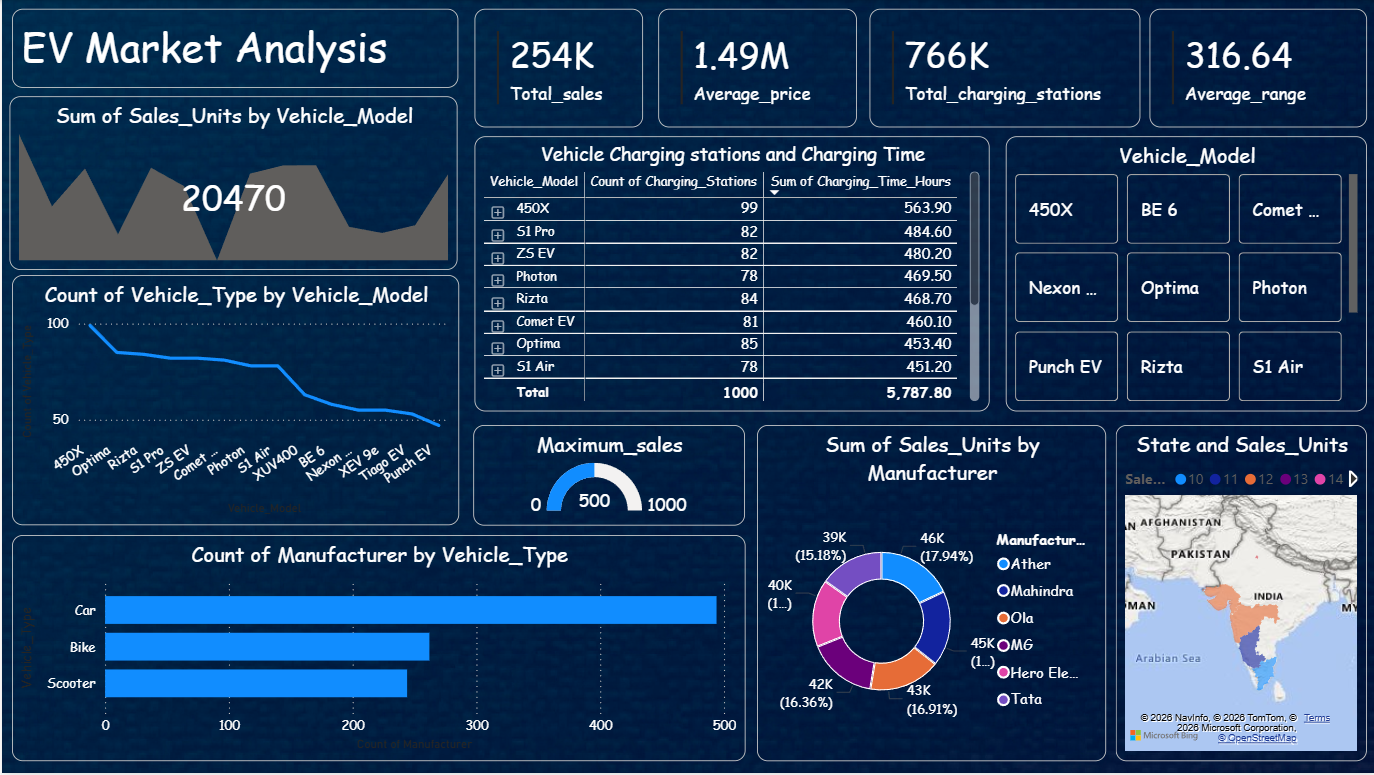

The page's visual inventory and layout, read from the dashboard file:
{"tool":"powerbi","page":{"name":"Page 1","canvas":[1280,720],"ordinal":0},"visuals":[{"type":"textbox","box":[9.3,8.1,415.1,73.3],"z":0},{"type":"kpi","fields":{"Indicator":["Sum(EV_Market_Data.Sales_Units)"],"TrendLine":["EV_Market_Data.Vehicle_Model"]},"box":[7.4,89.6,417.2,162],"z":1000},{"type":"lineChart","fields":{"Category":["EV_Market_Data.Vehicle_Model"],"Y":["CountNonNull(EV_Market_Data.Vehicle_Type)"]},"box":[8.8,256.2,416.2,232.5],"z":2000},{"type":"donutChart","fields":{"Y":["Sum(EV_Market_Data.Sales_Units)"],"Category":["EV_Market_Data.Manufacturer"]},"box":[702.5,395,325,312.5],"z":3000},{"type":"barChart","fields":{"Y":["CountNonNull(EV_Market_Data.Manufacturer)"],"Category":["EV_Market_Data.Vehicle_Type"]},"box":[8.8,497.5,682.5,210],"z":4000},{"type":"filledMap","fields":{"Category":["EV_Market_Data.State"],"Series":["EV_Market_Data.Sales_Units"]},"box":[1036.2,395,233.8,312.5],"z":5000},{"type":"advancedSlicerVisual","fields":{"Values":["EV_Market_Data.Vehicle_Model"]},"box":[933.7,126.7,336,255.8],"z":6000},{"type":"cardVisual","fields":{"Data":["Charging_stations.Total_sales"]},"box":[439.5,8.1,157,110.5],"z":7000},{"type":"cardVisual","fields":{"Data":["Charging_stations.Total_charging_stations"]},"box":[807,8.1,252.3,110.5],"z":8000},{"type":"pivotTable","title":"Vehicle Charging stations and Charging Time","fields":{"Rows":["EV_Market_Data.Vehicle_Model","EV_Market_Data.Vehicle_Type"],"Values":["CountNonNull(EV_Market_Data.Charging_Stations)","Sum(EV_Market_Data.Charging_Time_Hours)"]},"box":[439.5,126.7,479.1,255.8],"z":9000},{"type":"cardVisual","fields":{"Data":["Charging_stations.Average_price"]},"box":[610.5,8.1,184.9,110.5],"z":10000},{"type":"cardVisual","fields":{"Data":["Charging_stations.Average_range"]},"box":[1067.4,8.1,202.3,110.5],"z":11000},{"type":"gauge","fields":{"Y":["Charging_stations.Maximum_sales"]},"box":[438.8,395,252.5,93.8],"z":12000}]}

Visuals, with their boxes in screenshot pixels (x1, y1, x2, y2), scaled from the page's 1280x720 canvas onto the 1374x775 screenshot:
textbox: 10,9,456,88
kpi - Sum(EV_Market_Data.Sales_Units) x EV_Market_Data.Vehicle_Model: 8,96,456,271
lineChart - EV_Market_Data.Vehicle_Model x CountNonNull(EV_Market_Data.Vehicle_Type): 9,276,456,526
donutChart - Sum(EV_Market_Data.Sales_Units) x EV_Market_Data.Manufacturer: 754,425,1103,762
barChart - CountNonNull(EV_Market_Data.Manufacturer) x EV_Market_Data.Vehicle_Type: 9,536,742,762
filledMap - EV_Market_Data.State x EV_Market_Data.Sales_Units: 1112,425,1363,762
advancedSlicerVisual - EV_Market_Data.Vehicle_Model: 1002,136,1363,412
cardVisual - Charging_stations.Total_sales: 472,9,640,128
cardVisual - Charging_stations.Total_charging_stations: 866,9,1137,128
"Vehicle Charging stations and Charging Time" pivotTable: 472,136,986,412
cardVisual - Charging_stations.Average_price: 655,9,854,128
cardVisual - Charging_stations.Average_range: 1146,9,1363,128
gauge - Charging_stations.Maximum_sales: 471,425,742,526
